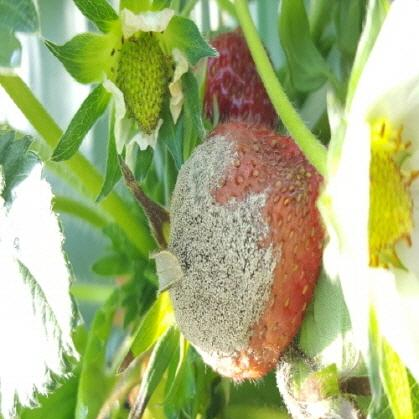Gray Mold: (148, 121, 326, 381)
